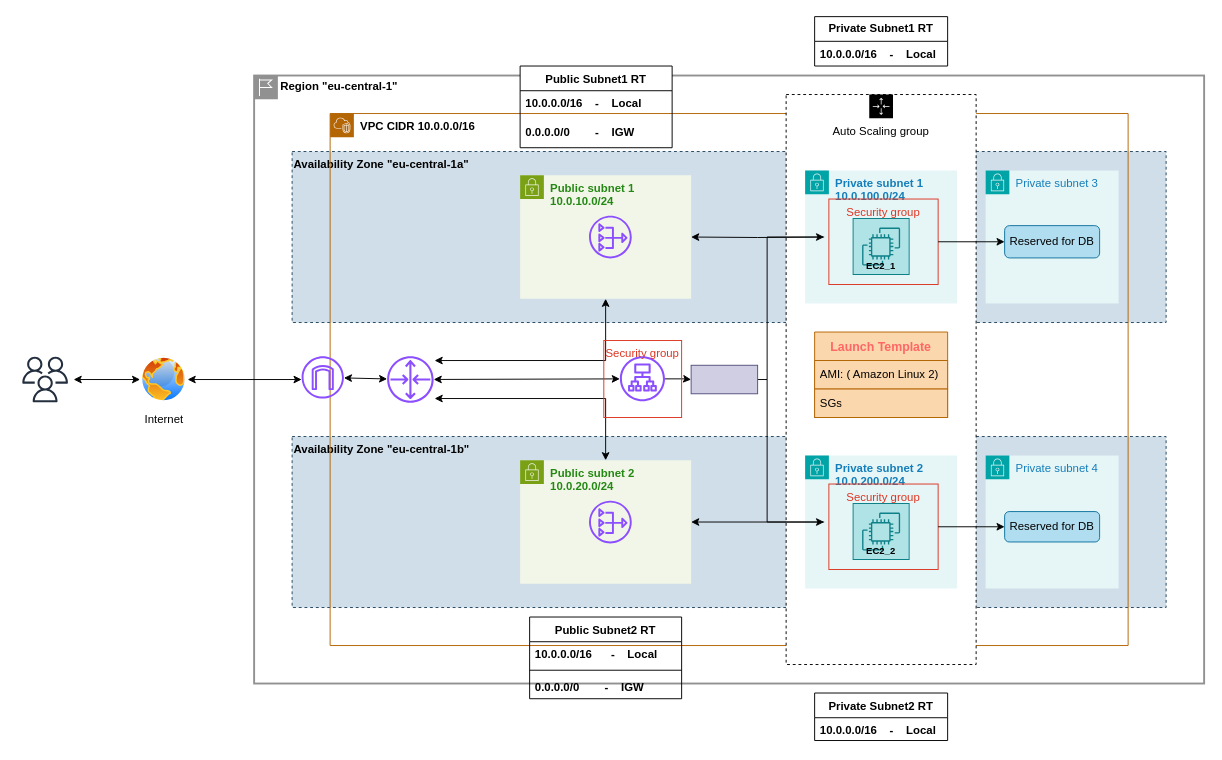
Some shapes in this 1222 by 760 pixel diagram are drawn without their labels. The shapes that lost their labels are listed below. From the top down, each one's centre as x and y in pixels, then its label:
At (x=610, y=236): "NAT gateway 1".
At (x=45, y=379): "Users".
At (x=322, y=377): "Internet Gateway".
At (x=410, y=379): "Router".
At (x=642, y=378): "ALB".
At (x=724, y=379): "Target group".
At (x=610, y=521): "NAT gateway 2".
